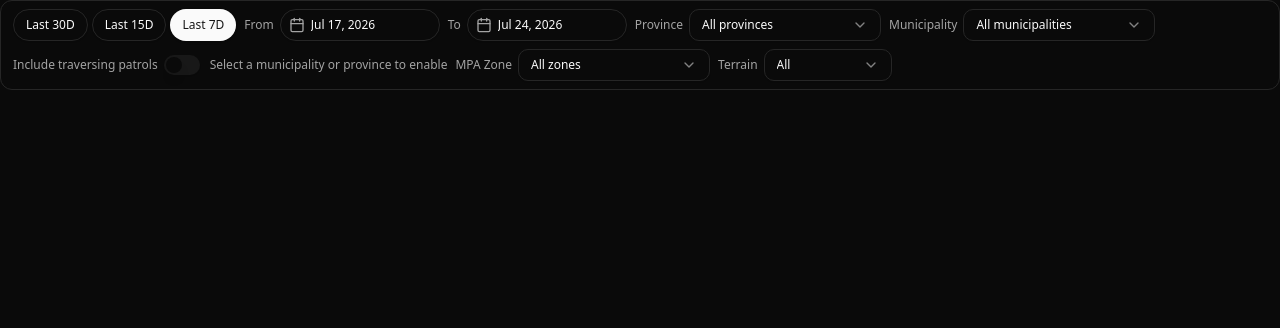
Scenario: ReportFilterBar › hides the MPA Zone select when the selected municipality has zero protected zones
Check: the dropdown with test id "report-protected-zone" is shown, box [518,49,710,81]
Click the dropdown with test id "report-municipality" at (1059, 25), box [963,9,1155,41]
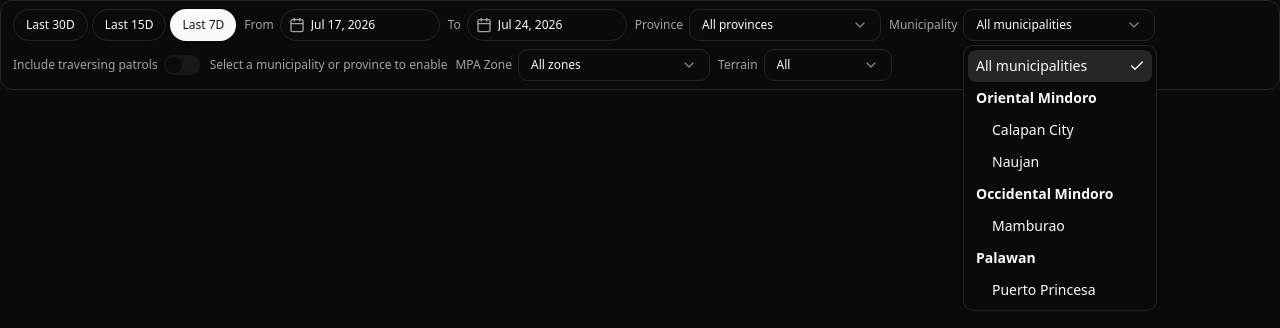
Click the option "Naujan" at (1016, 162), box [992,152,1039,171]
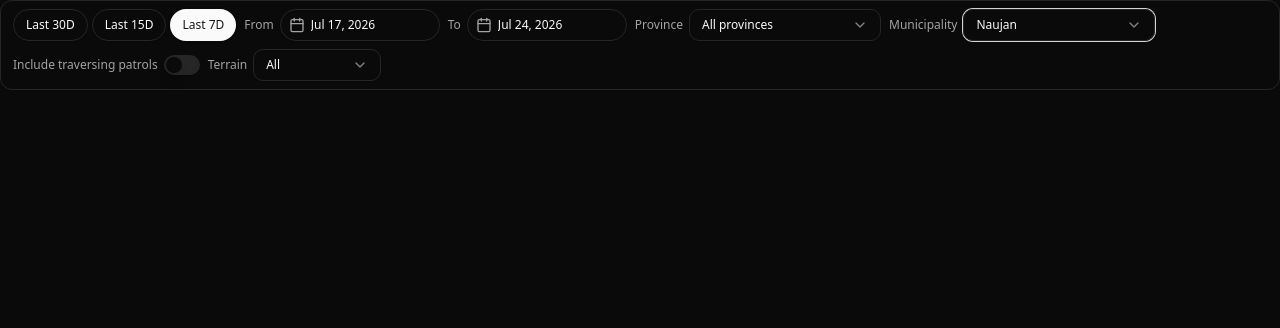
Check: the label with test id "report-protected-zone" is gone
